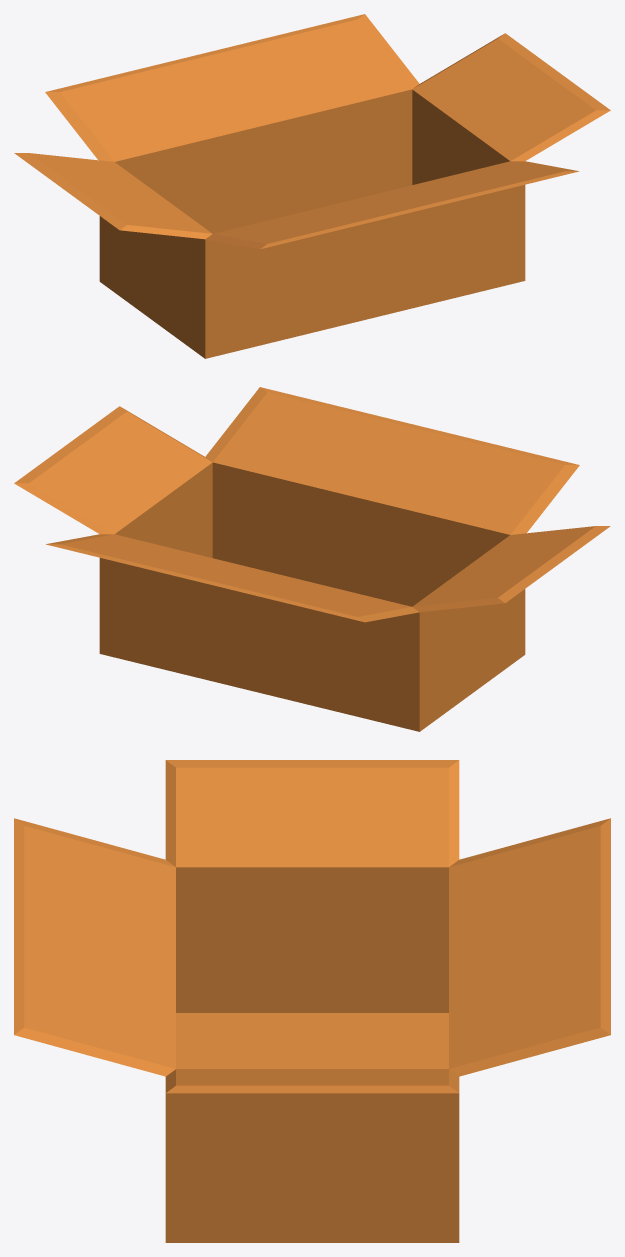
Rendered from Dechet_Carton_P.fbx.
3 renders of one model, top to bottom at view 1: azimuth 30°, elevation 25°; view 2: azimuth 150°, elevation 25°; view 3: azimuth 270°, elevation 25°, orthographic. The views are drawn at different scales.
Parts seen in each view (by area): view 1: Cube; view 2: Cube; view 3: Cube.
Boxes of the visible parts, bbox=[...] form: Cube: bbox=[14, 14, 610, 358]; Cube: bbox=[14, 387, 610, 731]; Cube: bbox=[14, 760, 610, 1242].
Size of the model in its own units: 430 by 125 by 326.
